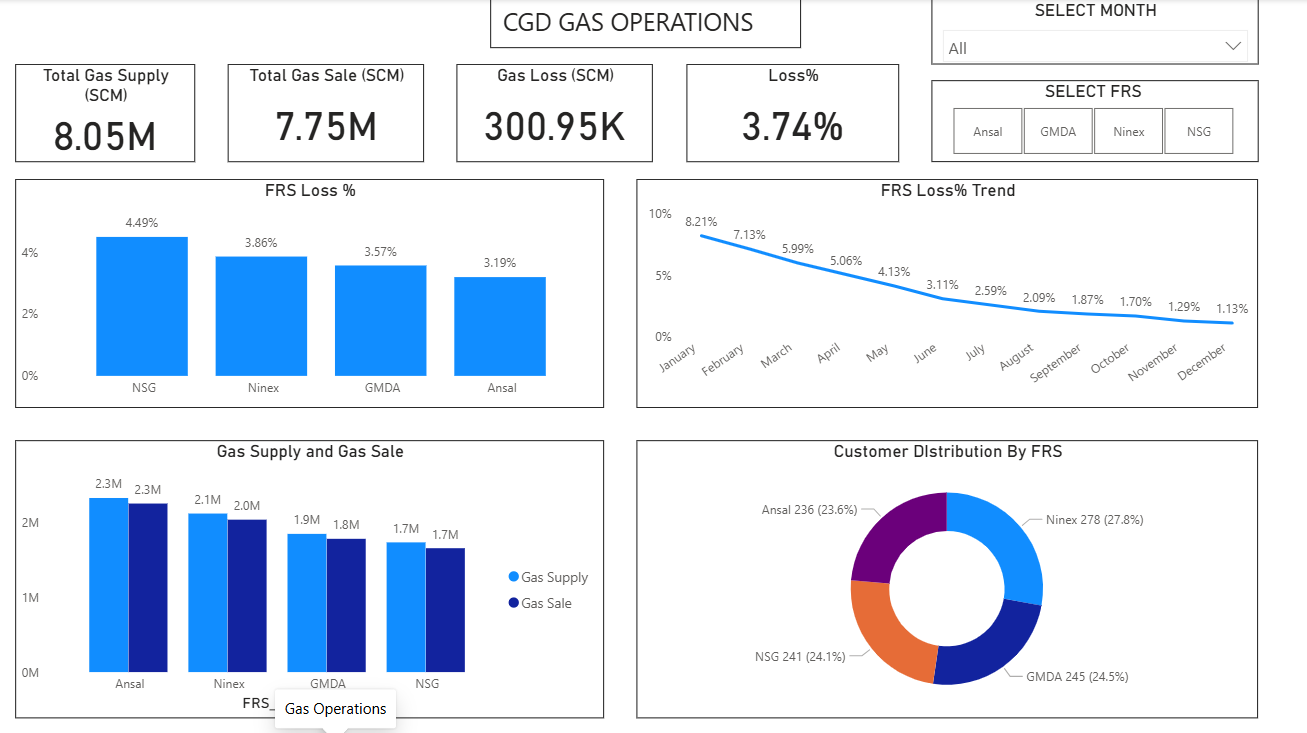

The dashboard page shown, as its layout file describes it:
{"tool":"powerbi","page":{"name":"Gas Operations","canvas":[1280,720],"ordinal":1},"visuals":[{"type":"card","title":"Total Gas Supply        (SCM)","fields":{"Values":["FRS.Total_Gas_input"]},"box":[16,64,176,96],"z":0},{"type":"card","title":"Total Gas Sale          (SCM)","fields":{"Values":["Sum(FRS.Gas_Sales_SCM)"]},"box":[224,64,192,96],"z":1000},{"type":"card","title":"Gas Loss (SCM)","fields":{"Values":["Sum(FRS.Gas_Loss_SCM)"]},"box":[448,64,192,96],"z":2000},{"type":"card","title":"Loss%","fields":{"Values":["FRS.Loss%"]},"box":[672,64,208,96],"z":3000},{"type":"columnChart","title":"FRS Loss %","fields":{"Category":["FRS.FRS_Name"],"Y":["FRS.Loss%"]},"box":[16,176,576,224],"z":4000},{"type":"clusteredColumnChart","title":"Gas Supply and Gas Sale","fields":{"Y":["Sum(FRS.Gas_Input_SCM)","Sum(FRS.Gas_Sales_SCM)"],"Category":["FRS_Master.FRS_Name"]},"box":[16,432,576,272],"z":5000},{"type":"lineChart","title":"FRS Loss% Trend","fields":{"Y":["FRS.Loss%"],"Category":["Calendar.Month"]},"box":[624,176,608,224],"z":6000},{"type":"donutChart","title":"Customer DIstribution By FRS","fields":{"Category":["FRS_Master.FRS_Name"],"Y":["Customers.Total_customers"]},"box":[624,432,608,272],"z":7000},{"type":"slicer","title":"SELECT MONTH","fields":{"Values":["Calendar.Month"]},"box":[912,0,320,64],"z":8000},{"type":"slicer","title":"SELECT FRS","fields":{"Values":["FRS_Master.FRS_Name"]},"box":[912,80,320,80],"z":9000},{"type":"textbox","box":[480,0,304,48],"z":10000}]}

Visuals, with their boxes in screenshot pixels (x1, y1, x2, y2), scaled from the page's 1280x720 canvas onto the 1307x733 screenshot:
"Total Gas Supply        (SCM)" card: box=[16, 65, 196, 163]
"Total Gas Sale          (SCM)" card: box=[229, 65, 425, 163]
"Gas Loss (SCM)" card: box=[457, 65, 654, 163]
"Loss%" card: box=[686, 65, 899, 163]
"FRS Loss %" columnChart: box=[16, 179, 604, 407]
"Gas Supply and Gas Sale" clusteredColumnChart: box=[16, 440, 604, 717]
"FRS Loss% Trend" lineChart: box=[637, 179, 1258, 407]
"Customer DIstribution By FRS" donutChart: box=[637, 440, 1258, 717]
"SELECT MONTH" slicer: box=[931, 0, 1258, 65]
"SELECT FRS" slicer: box=[931, 81, 1258, 163]
textbox: box=[490, 0, 801, 49]
